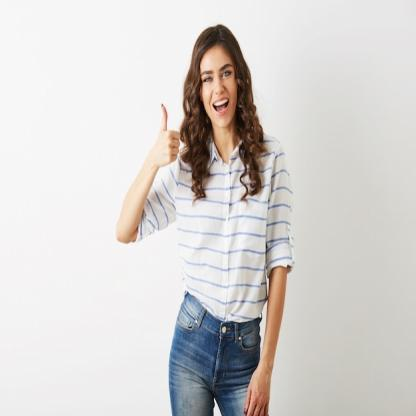thumb_up: (152, 100, 182, 172)
